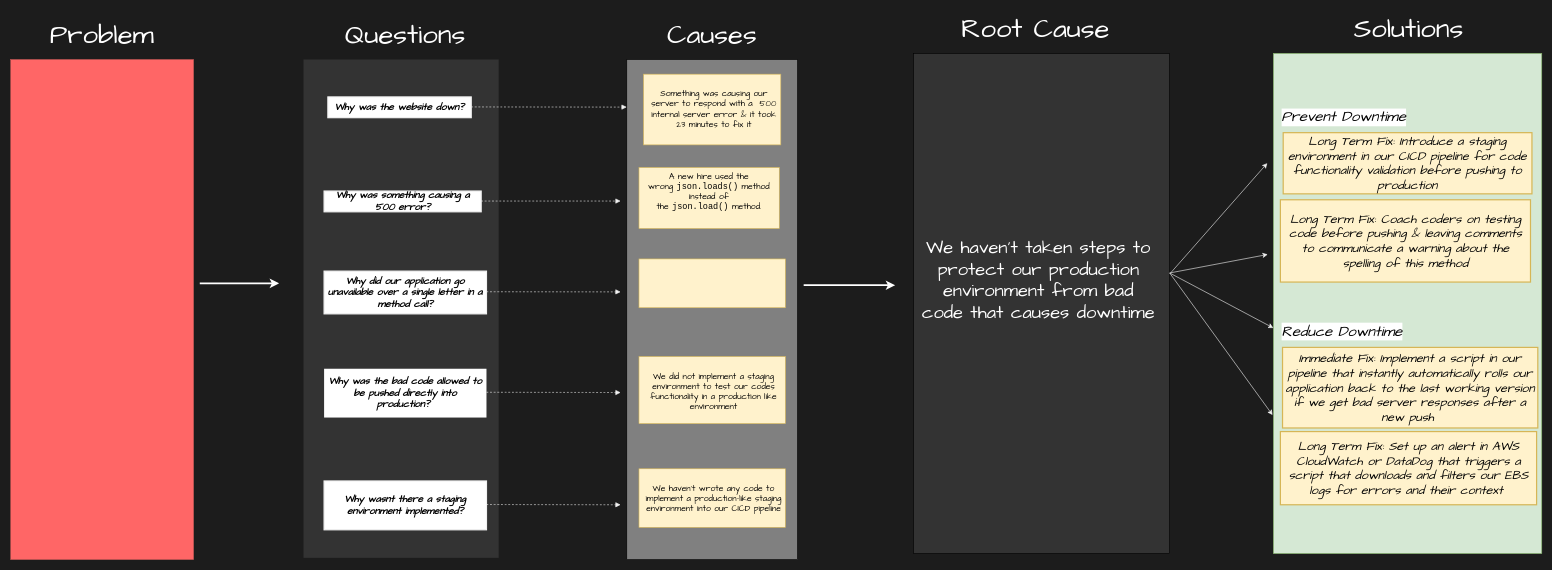
Some shapes in this 1552 by 570 pixel diagram are drawn without their labels. The shapes that lost their labels are listed below. From the top down, each one's centre as x and y in pixels, then its label:
At (x=711, y=283): "We pushed bad code into production".
At (x=102, y=309): "Our production website went down for 23 minutes".
